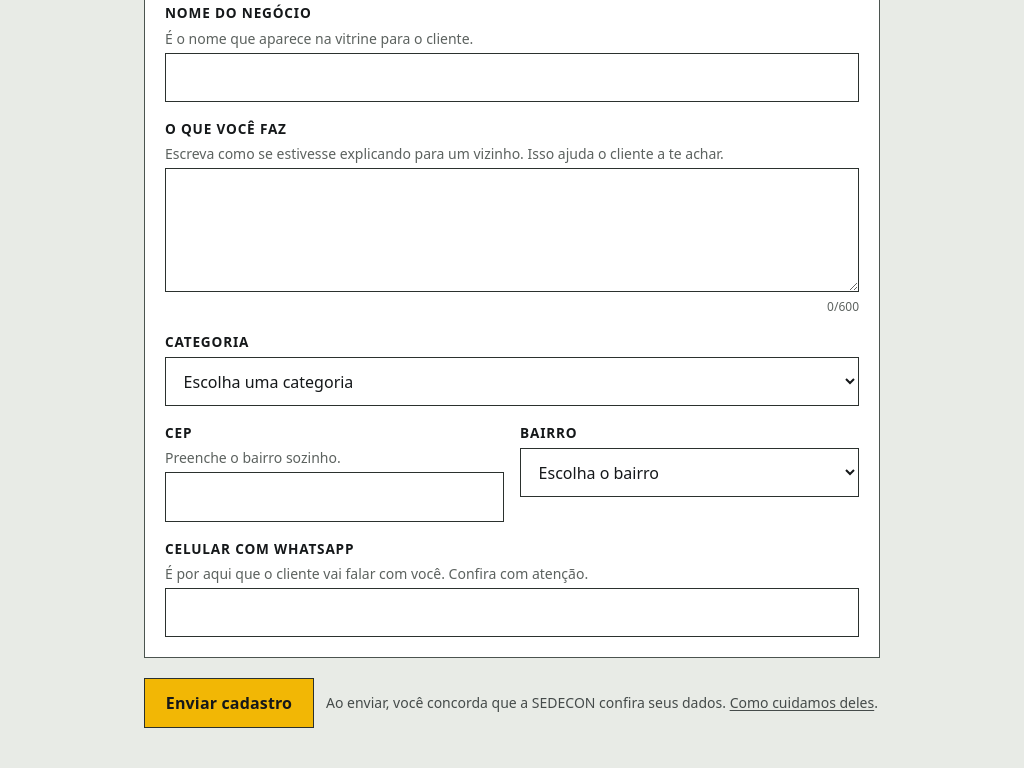
Test: formulário de cadastro › mascara o telefone enquanto a pessoa digita
(page scrolled)
Type "14997123456" into the field labelled "Celular com WhatsApp" at (512, 613), box [165, 588, 859, 638]
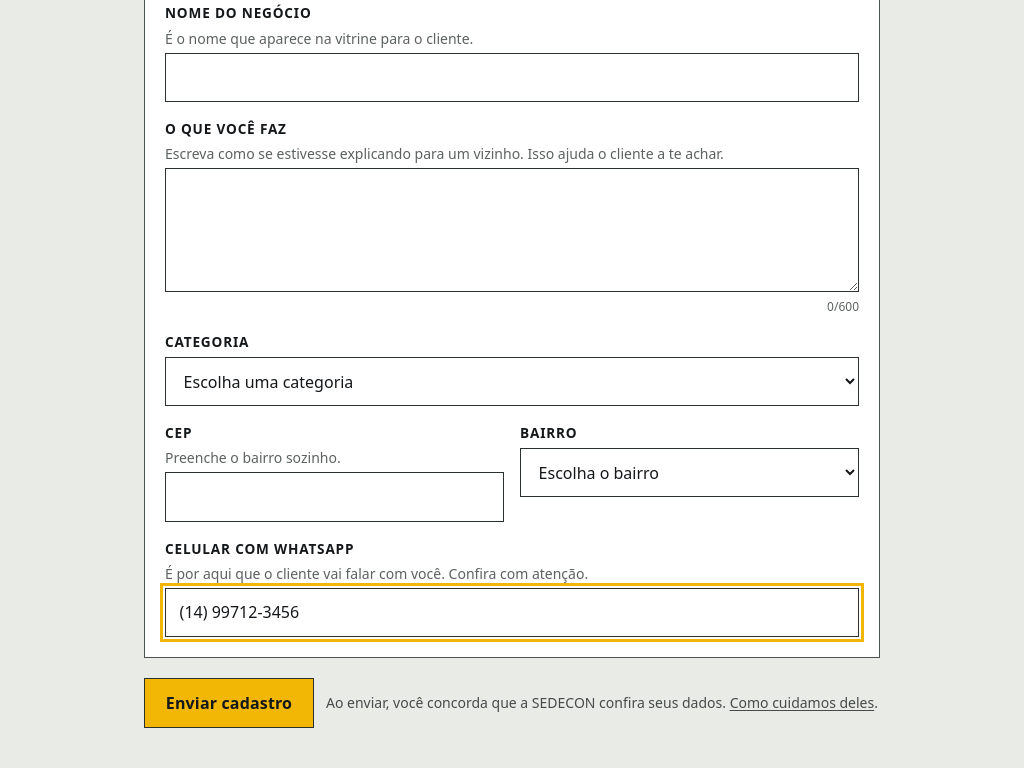
Check: the field labelled "Celular com WhatsApp" holds "(14) 99712-3456", box [165, 588, 859, 638]
